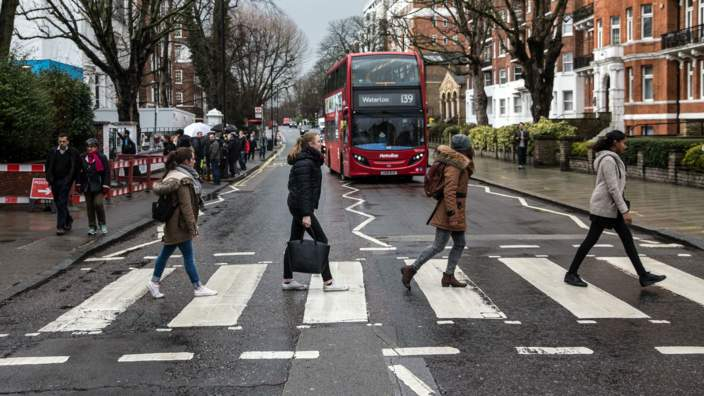pedestrian: (561, 128, 667, 292), (275, 128, 356, 296), (394, 131, 478, 289), (145, 146, 217, 303), (75, 136, 115, 233), (45, 130, 79, 232)
